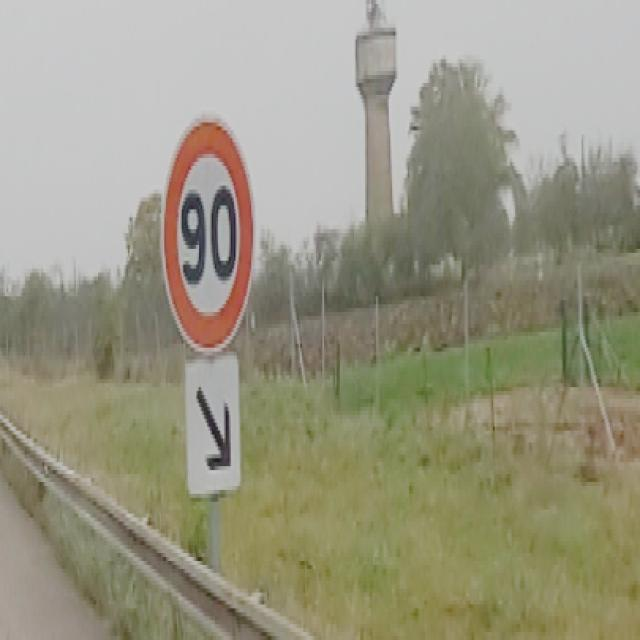speed_90: (161, 113, 255, 358)
